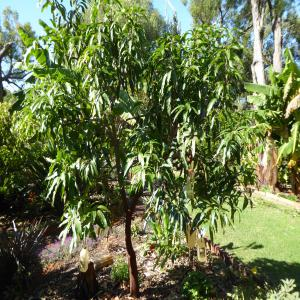Tree: (19, 5, 245, 298)
